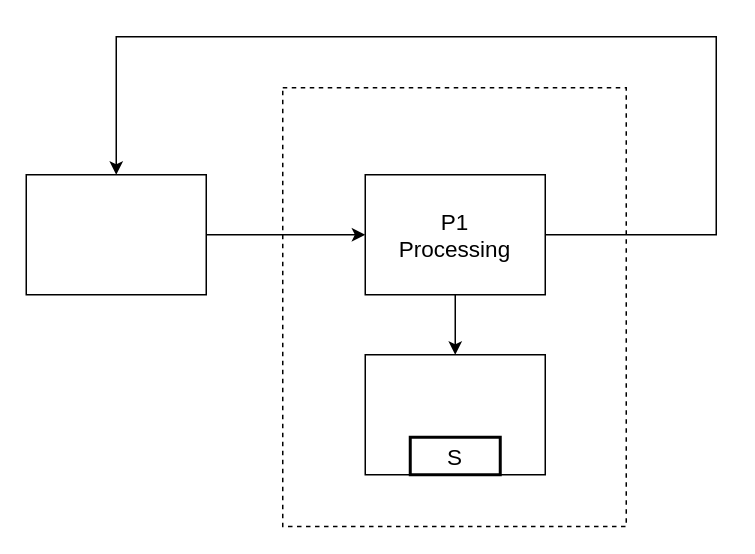
Some shapes in this 755 by 554 pixel diagram are drawn without their labels. The box of each missing label's shape, as (x1, y1, x2, y2) in pixels:
P0 Environment: (25, 173, 206, 295)
P2 Food: (364, 353, 545, 475)
